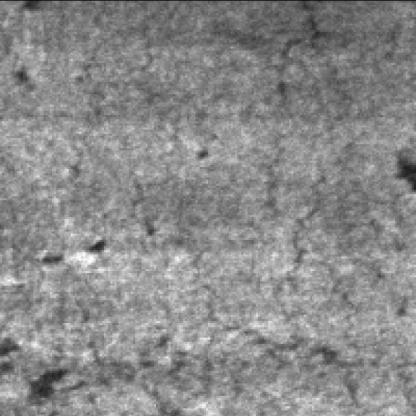crazing: (270, 33, 368, 331), (85, 336, 393, 416)
